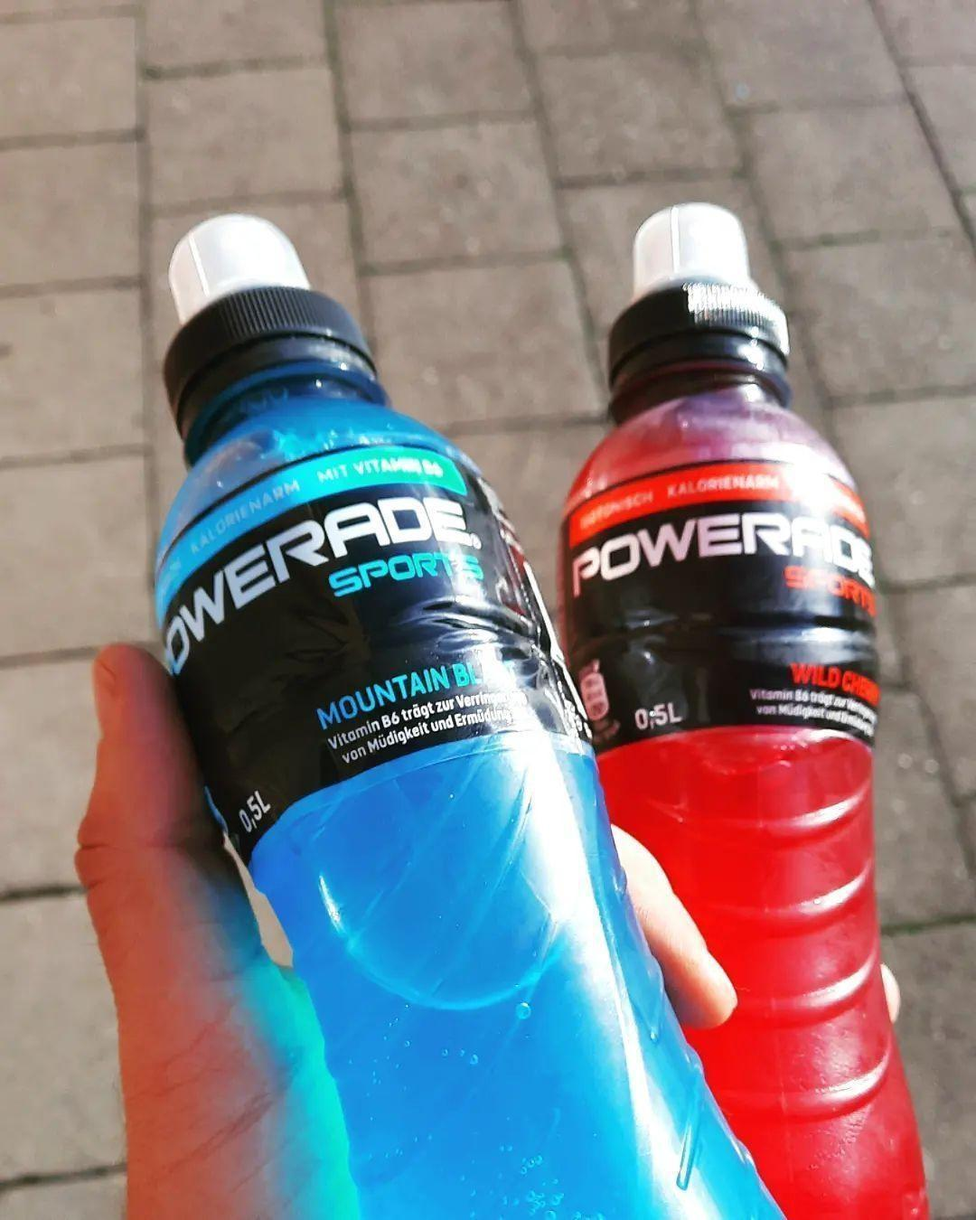bottle-plastic: (152, 209, 801, 1220), (552, 206, 931, 1215)
